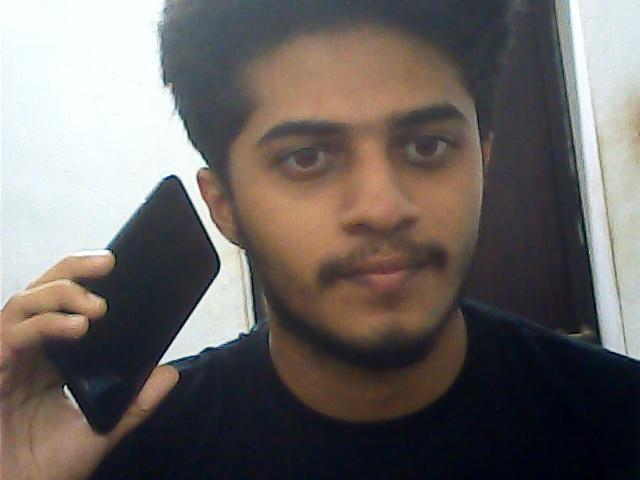PhoneUse: (32, 155, 220, 428)
SafeDriving: (383, 114, 470, 176), (262, 131, 354, 183)
